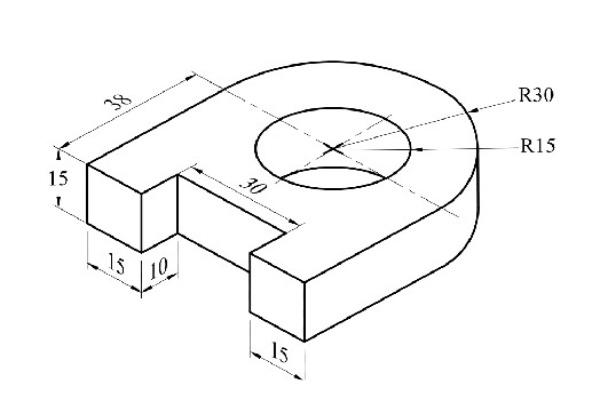dimensions: (512, 79, 566, 113), (232, 168, 273, 202), (97, 89, 141, 115), (264, 337, 299, 366), (139, 256, 174, 284), (516, 133, 559, 155), (101, 248, 132, 278), (43, 167, 74, 192)
